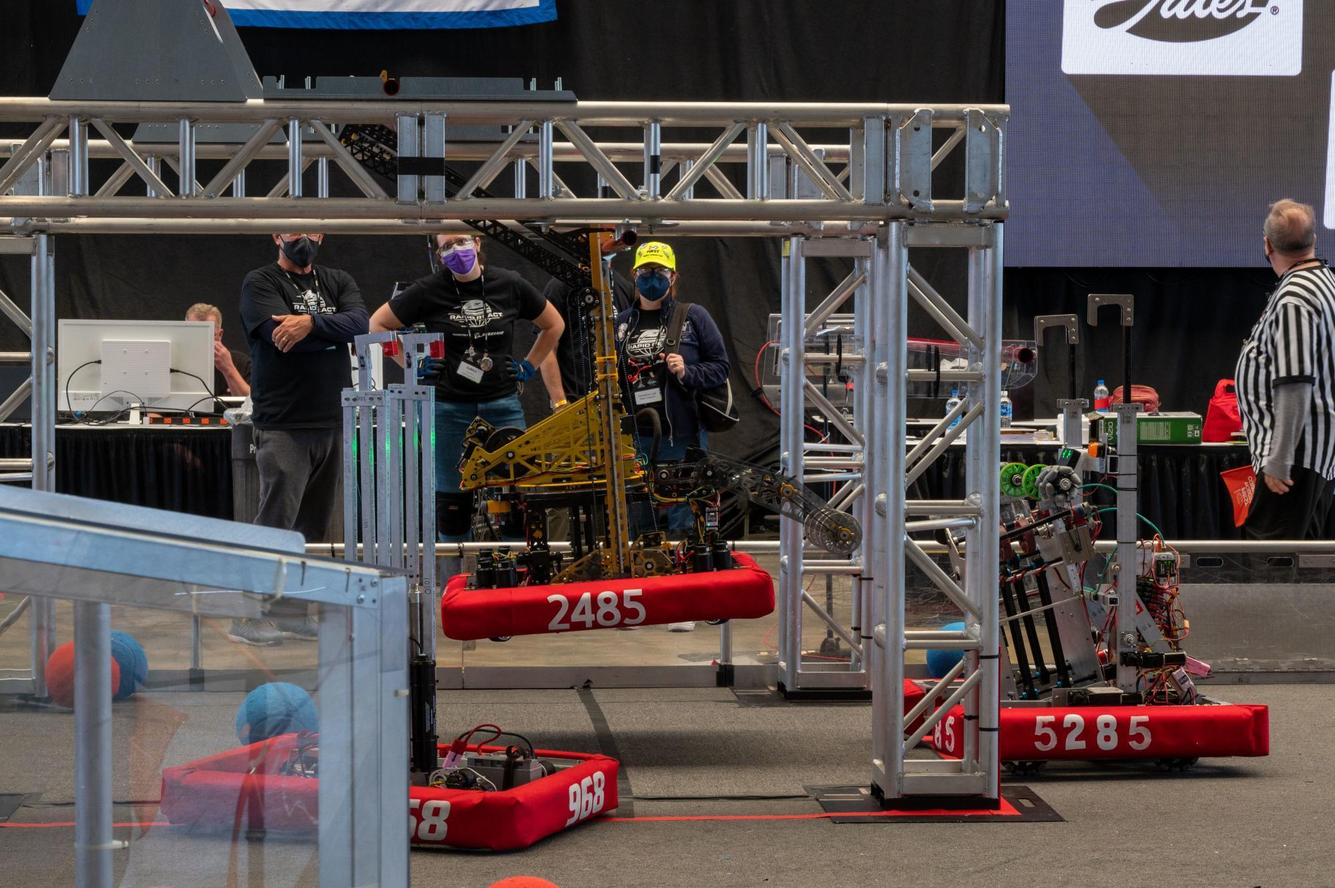robot: (319, 97, 778, 643), (159, 328, 625, 857), (900, 290, 1276, 771)
